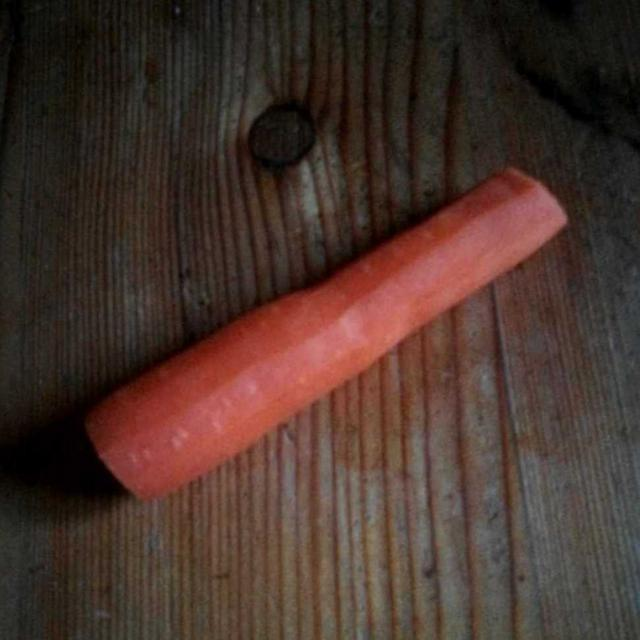carrot: (85, 186, 554, 490)
